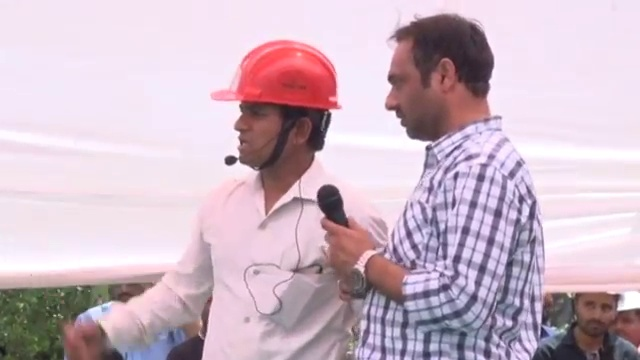helmet: (205, 38, 343, 121), (615, 290, 640, 313)
helmet_off: (382, 18, 498, 119), (566, 290, 621, 340)
helmet_on: (210, 41, 342, 173), (616, 293, 640, 347)
person: (61, 33, 377, 360), (313, 12, 545, 360), (528, 288, 640, 360)
